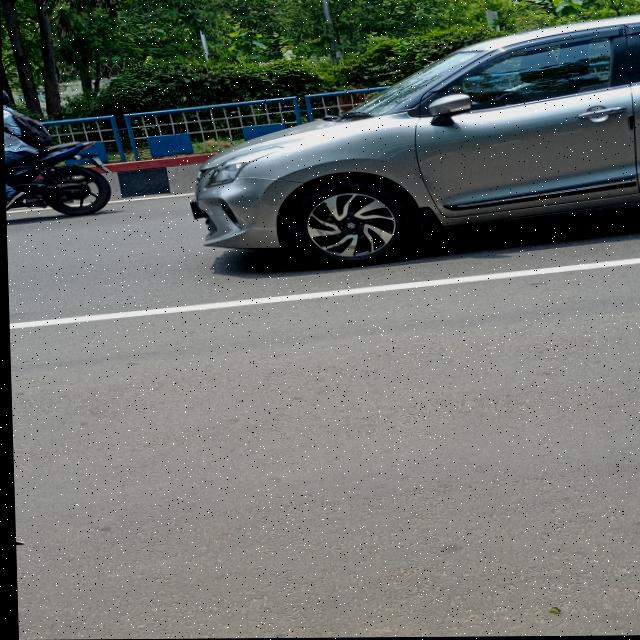bike: (3, 131, 115, 226)
car: (182, 38, 640, 254)
